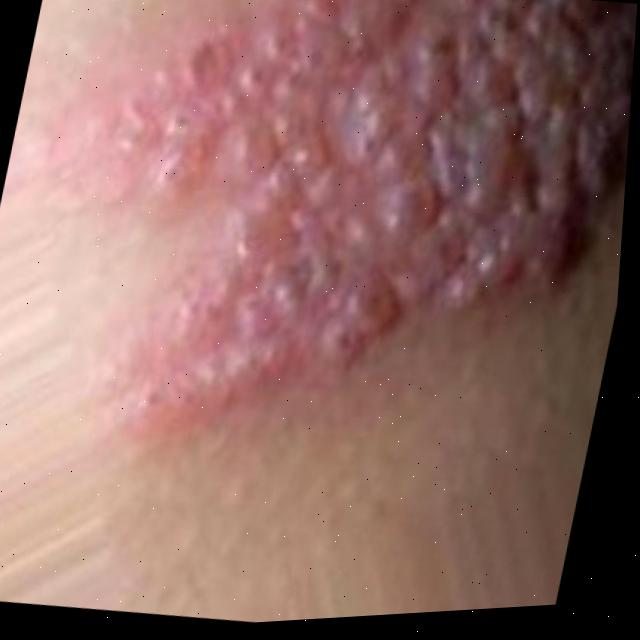Shingles: (62, 0, 640, 488)
